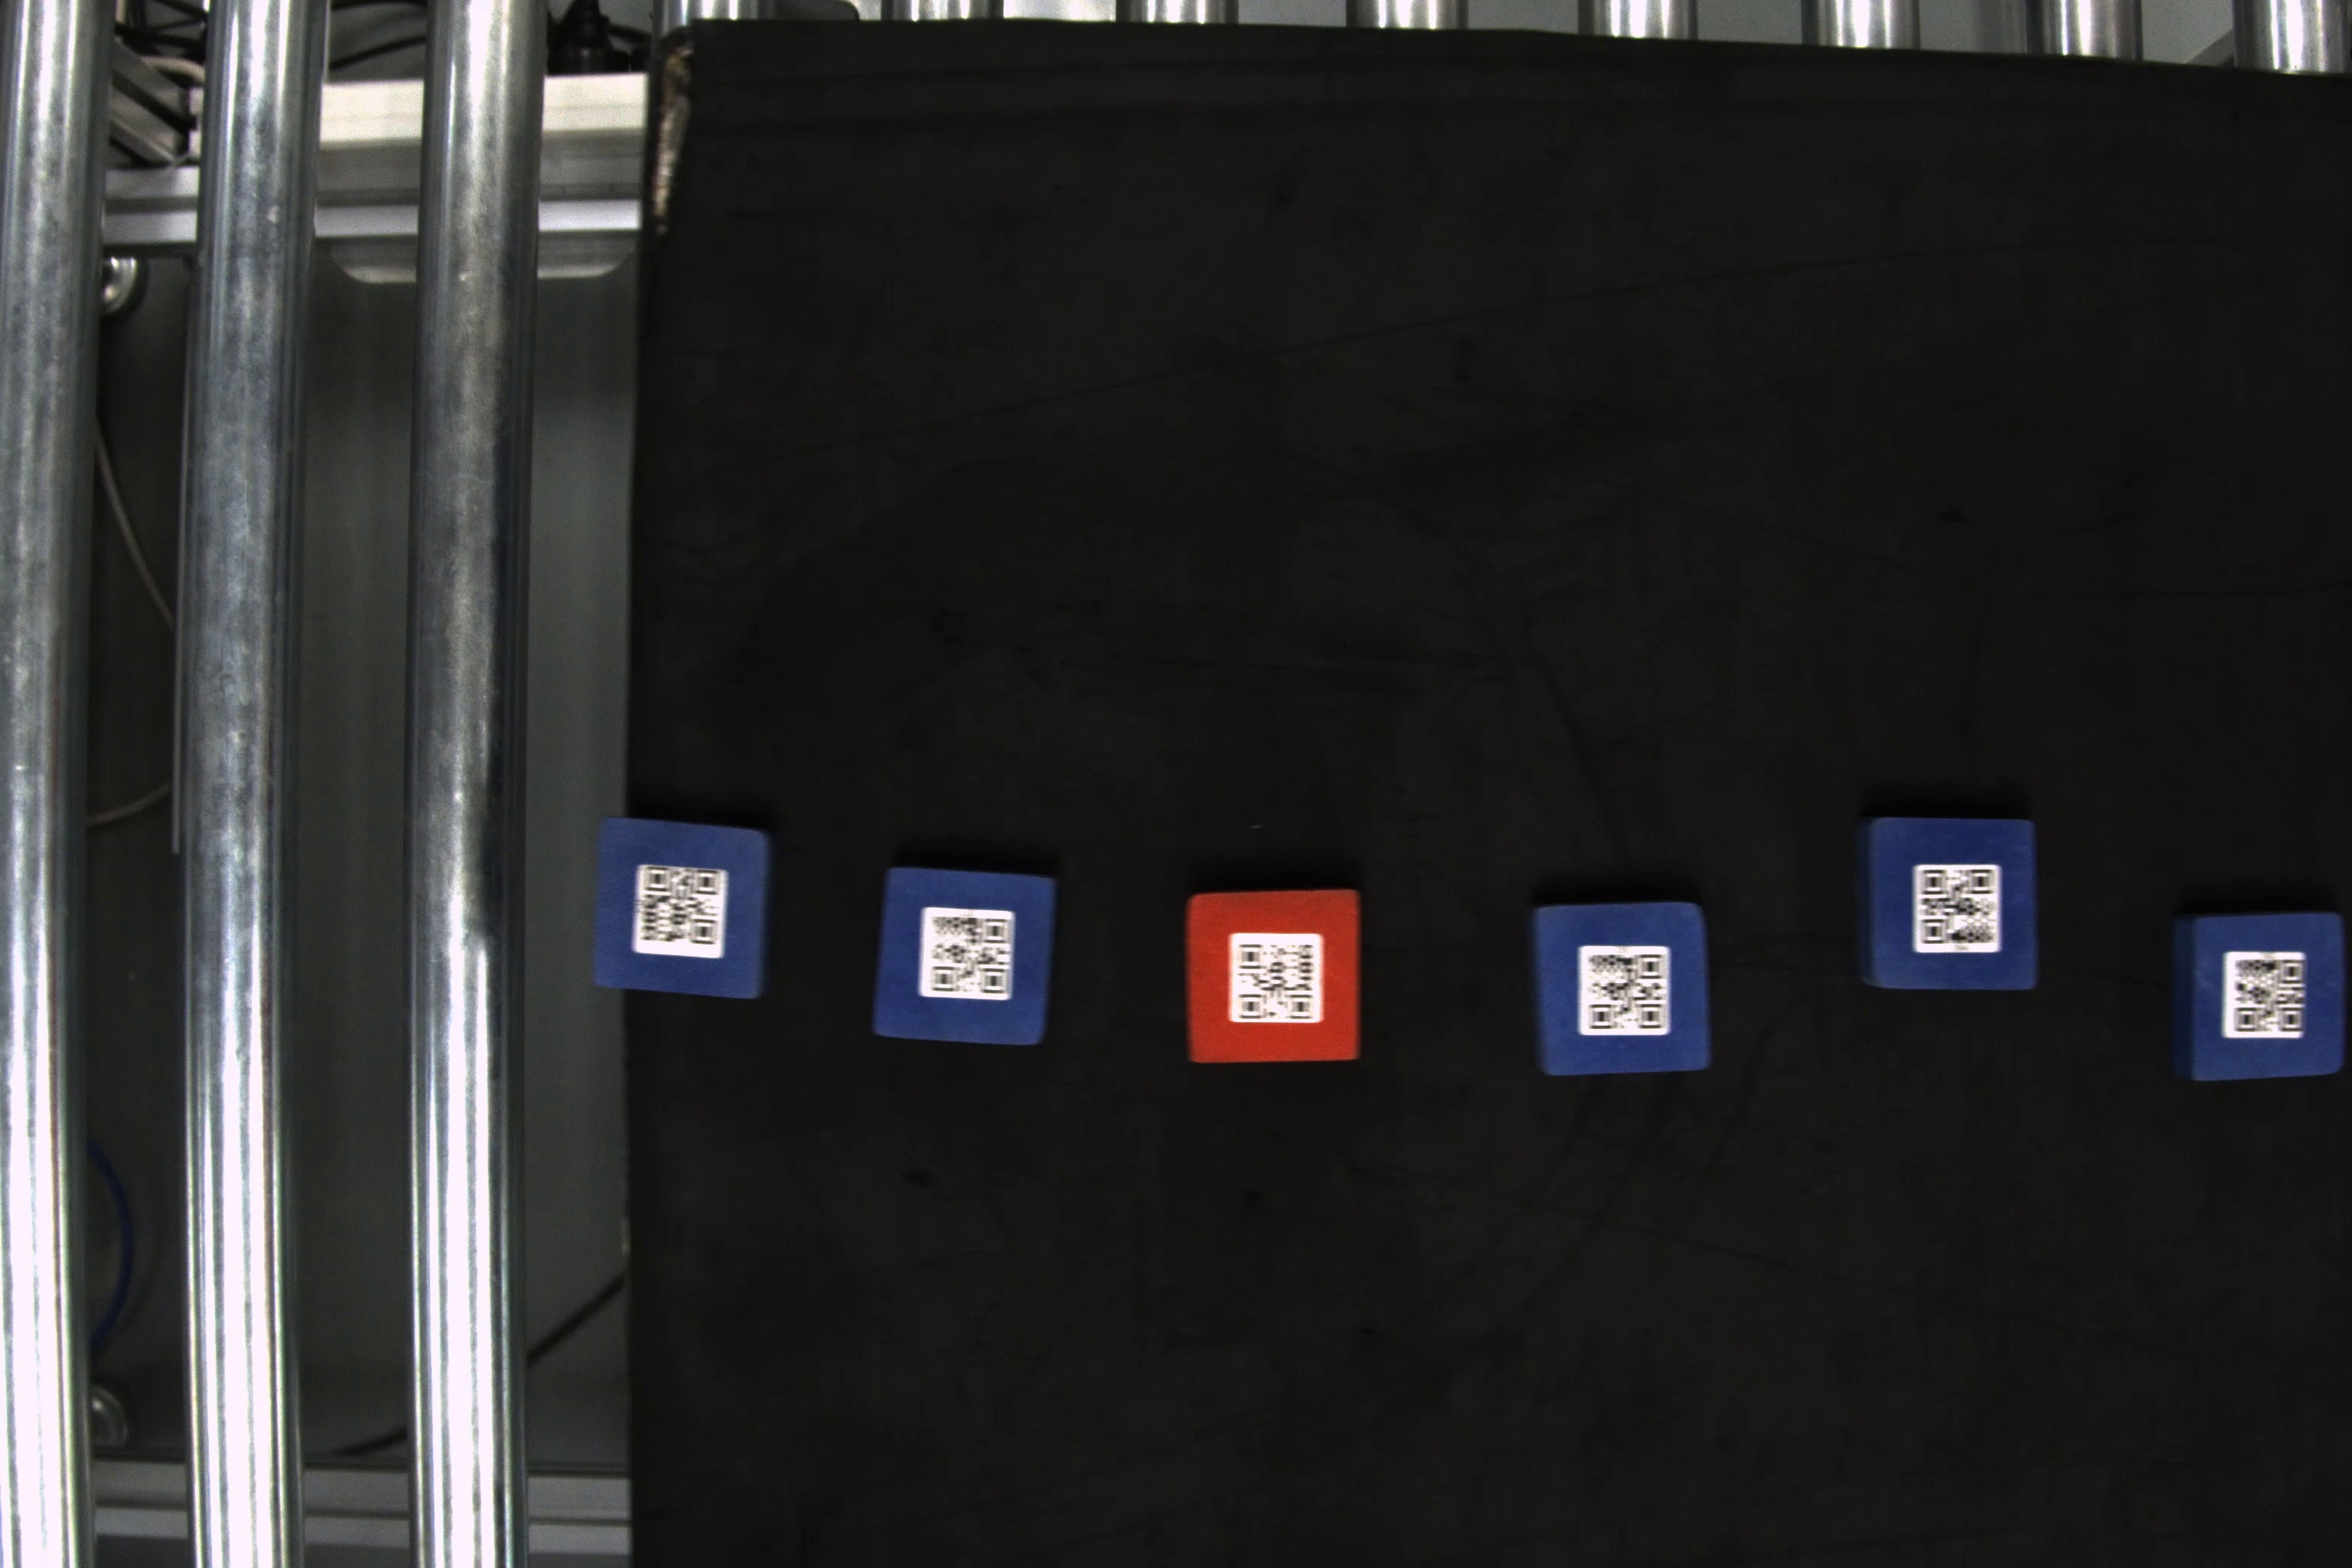wood: (590, 810, 786, 1004), (868, 864, 1071, 1050), (1855, 817, 2046, 996), (1526, 898, 1711, 1078), (1183, 891, 1365, 1066), (2172, 910, 2347, 1085)
